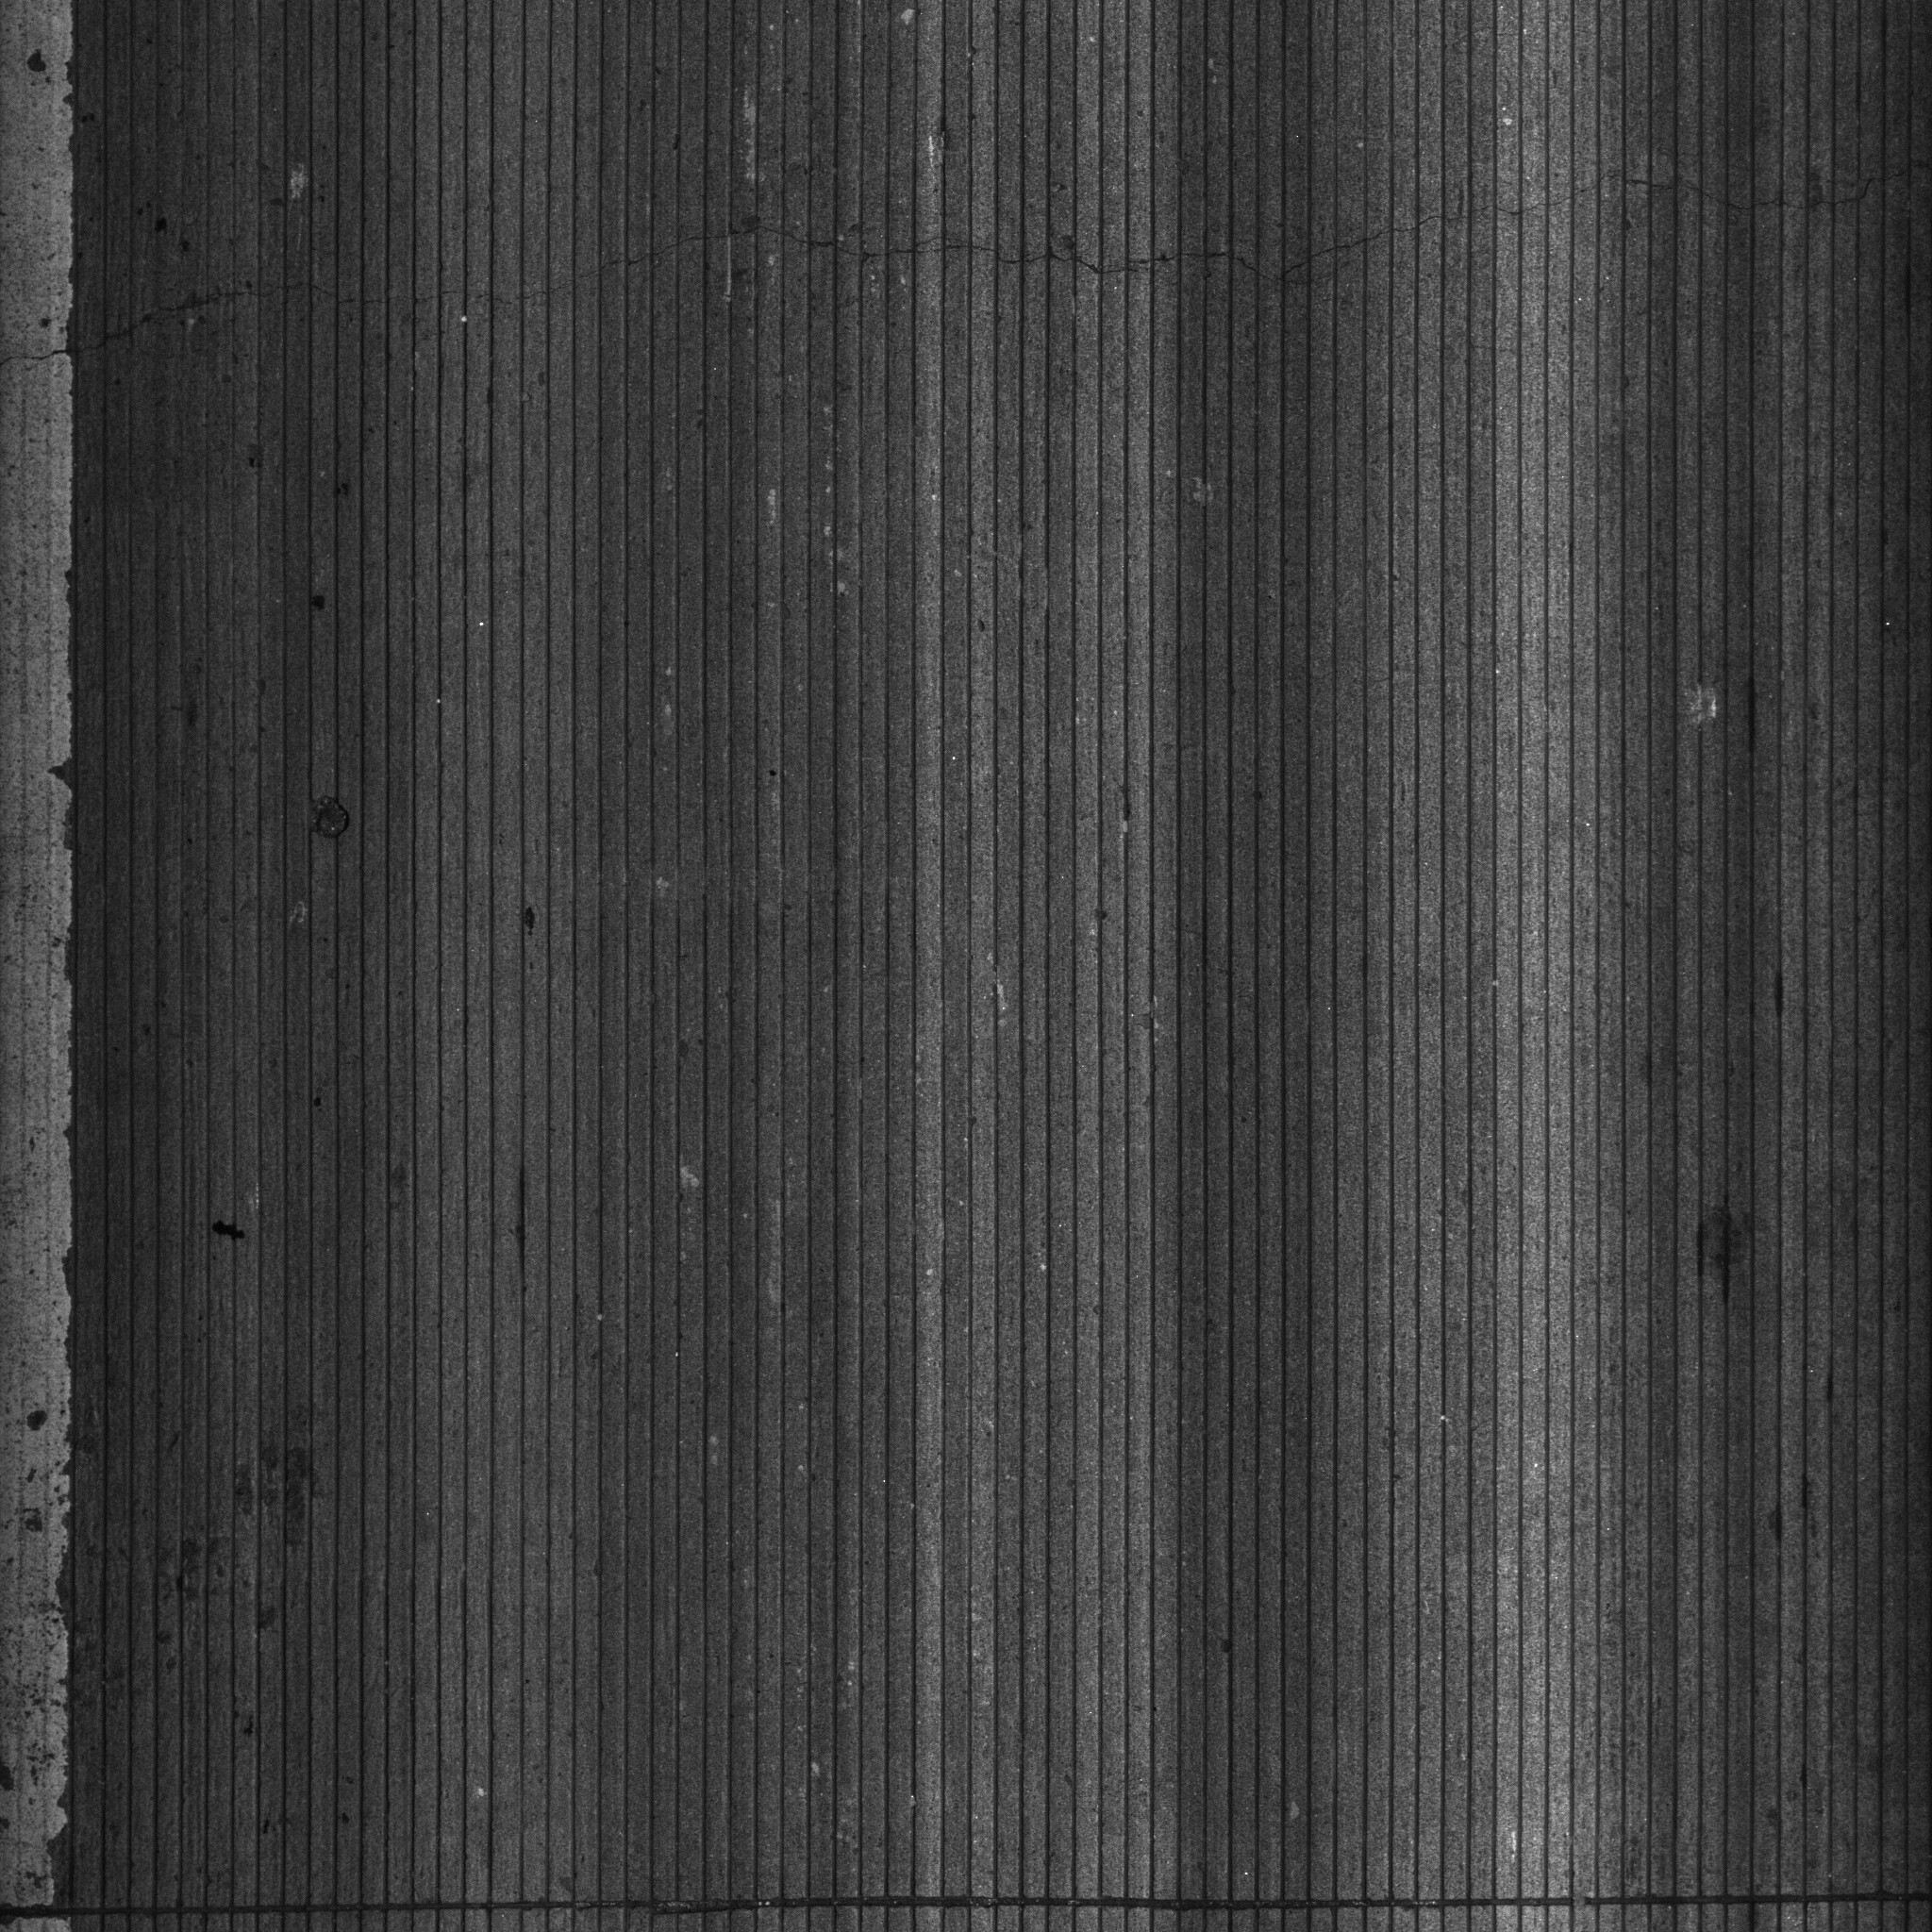transverse: (85, 168, 1882, 377)
